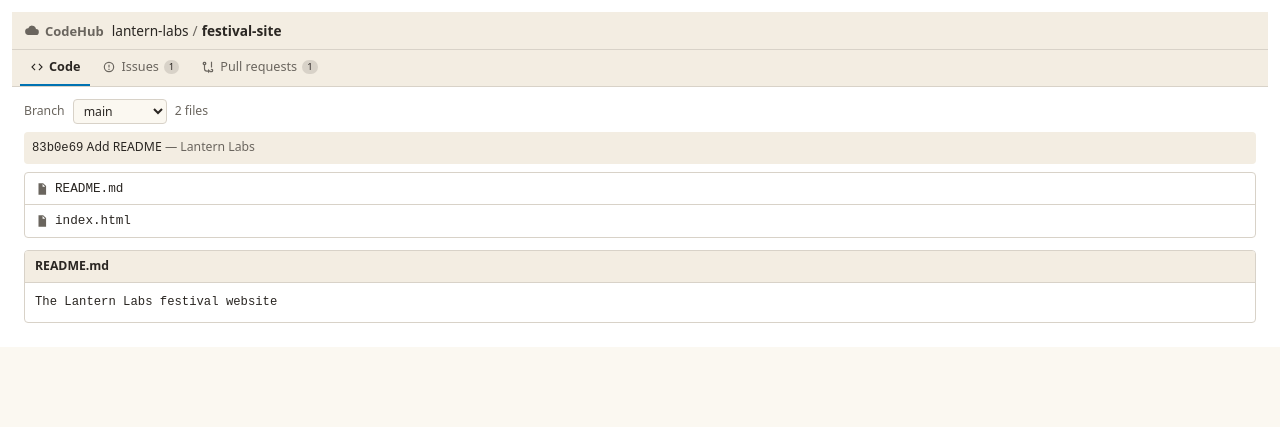
Test case: HubPanel (simulated code-hosting site) › opens an issue from the list and shows its body
The image size is (1280, 427).
Click the tab with test id "hub-nav-issues" at (141, 68), box [92,50,189,86]
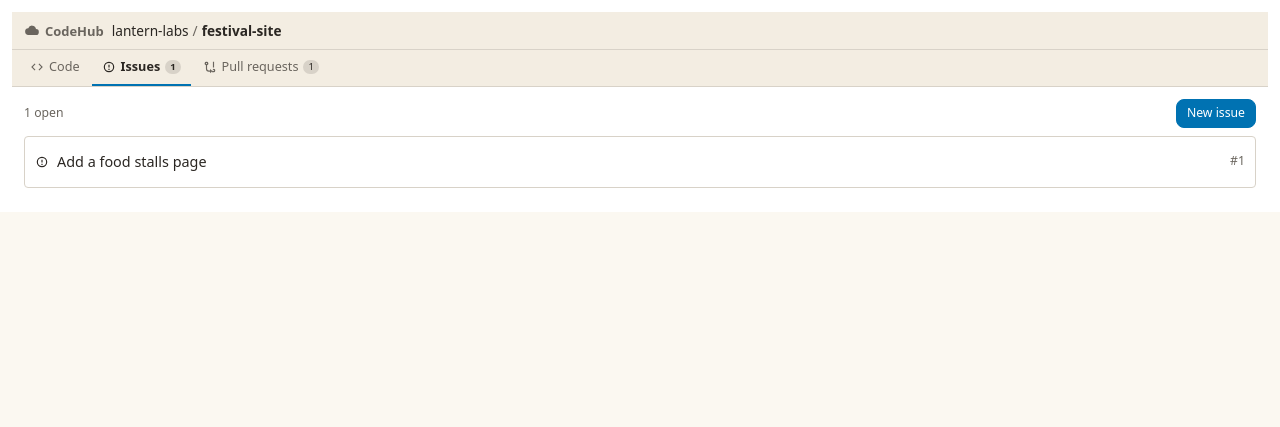
Click the button "Add a food stalls page #1" at (132, 161), box [25,143,1255,181]
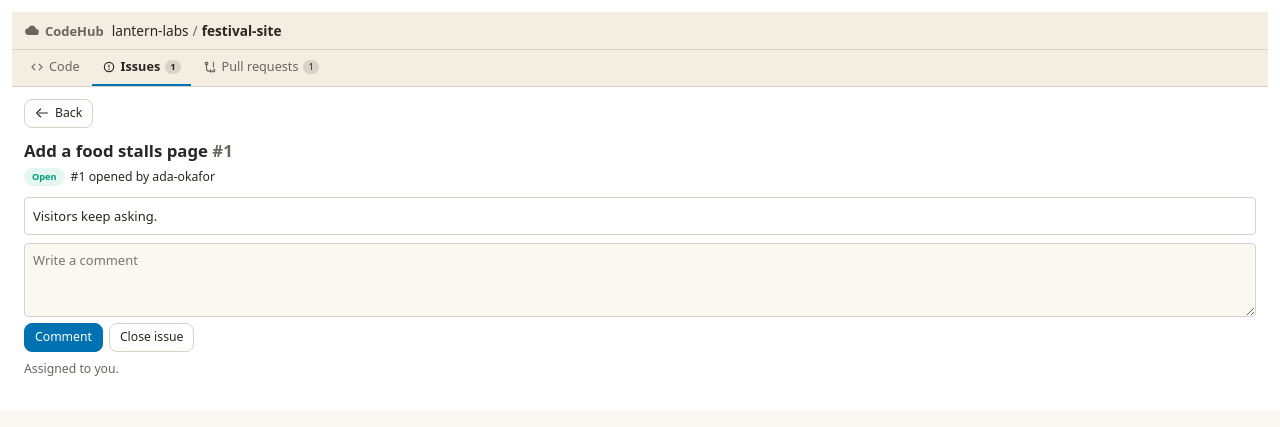
Result: the heading with test id "hub-issue-title" shows "food stalls" at [24,139,208,162]
Result: the element with test id "hub-issue-body" shows "Visitors keep asking" at [33,207,157,225]
